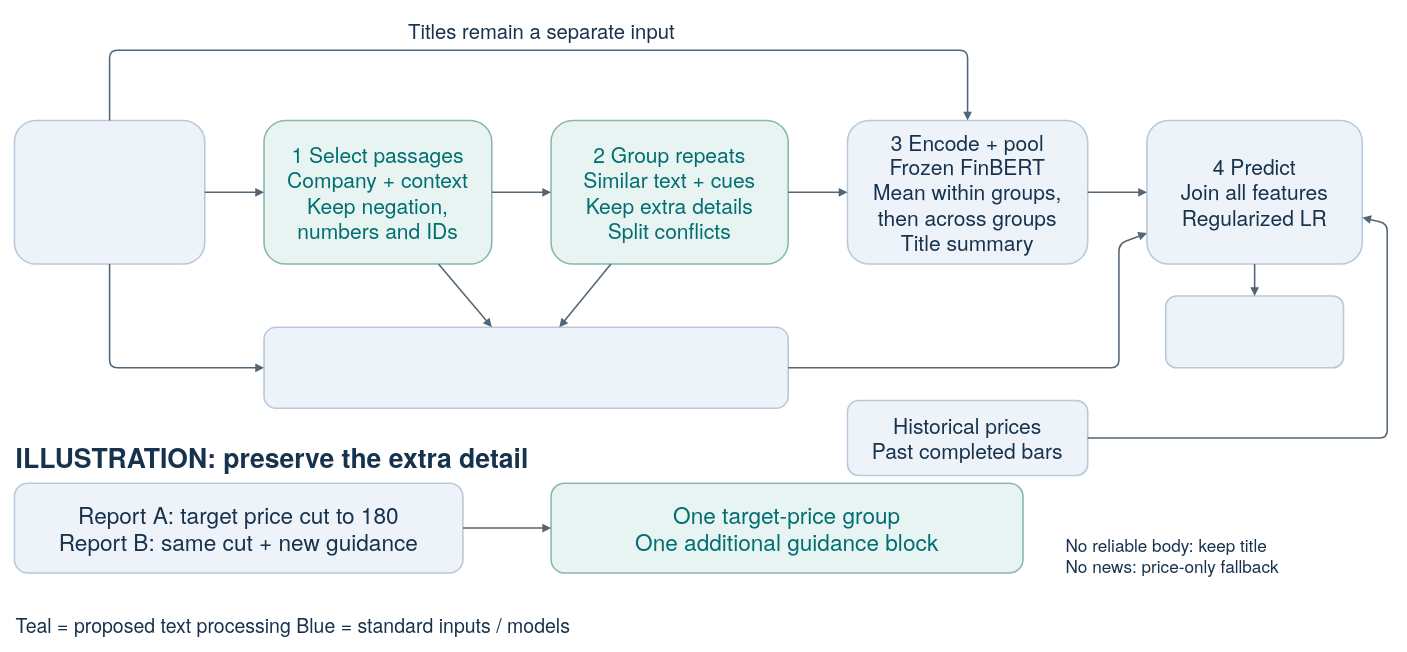
Image size: 1407x652. Some labels were removed from this diagram. Each missing label, with the box of its shape:
4-hour up probability: (1165, 295, 1344, 368)
News available Titles + bodies Source + time: (13, 119, 205, 264)
Reporting + coverage features Counts, sources, ages and body coverage: (263, 326, 789, 409)
